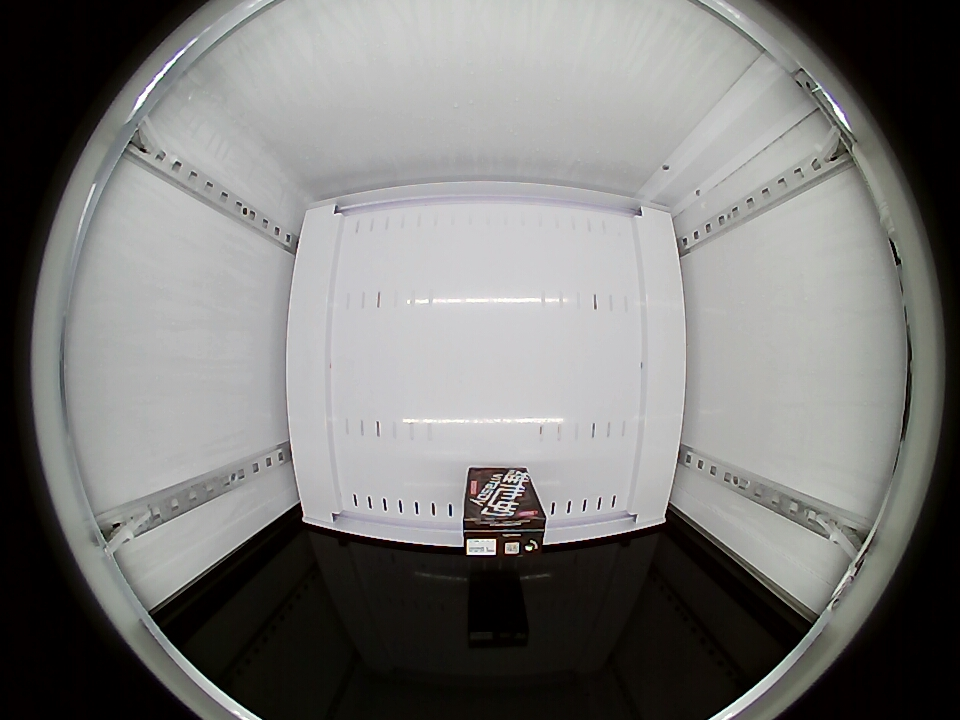weitanai2: (463, 499, 547, 557)
